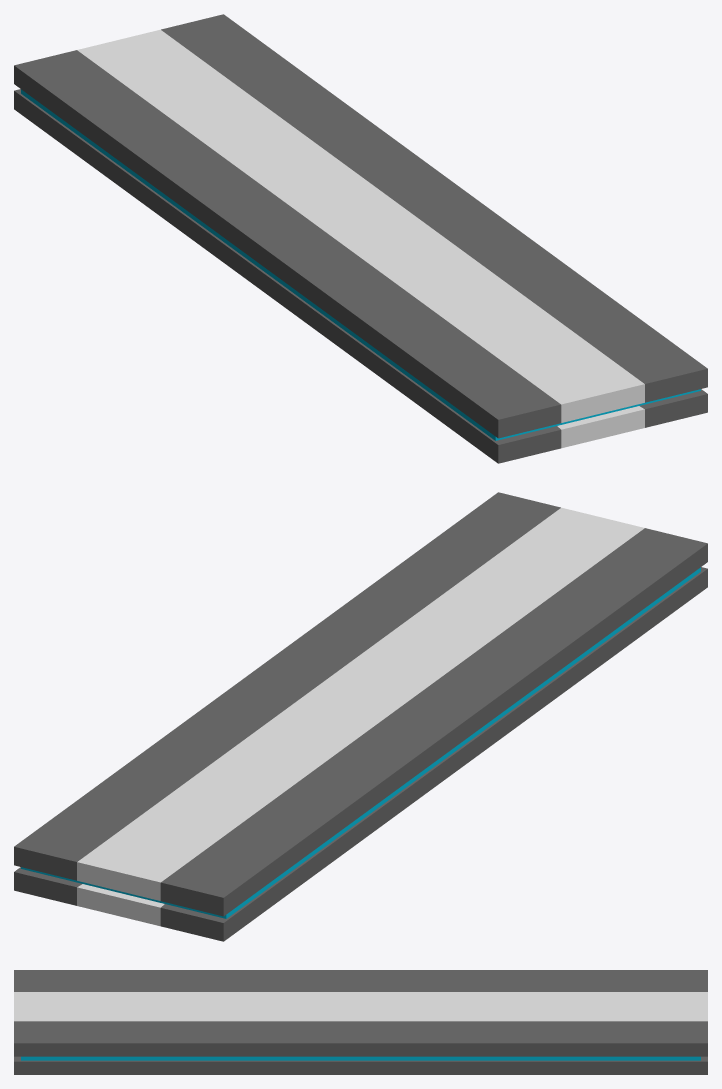
File: scifi-shelf.fbx
3 views of the same model, one above another, from view 1: azimuth 30°, elevation 25°; view 2: azimuth 150°, elevation 25°; view 3: azimuth 270°, elevation 25° (orthographic). The views are drawn at different scales.
Visible parts, largest first — view 1: Cube; view 2: Cube; view 3: Cube.
Boxes of the visible parts, box(x1,y1,x2,y2) form: Cube: box(14, 14, 707, 463); Cube: box(14, 492, 707, 941); Cube: box(14, 970, 707, 1074).
Size of the model in its own units: 200 by 40 by 800.
